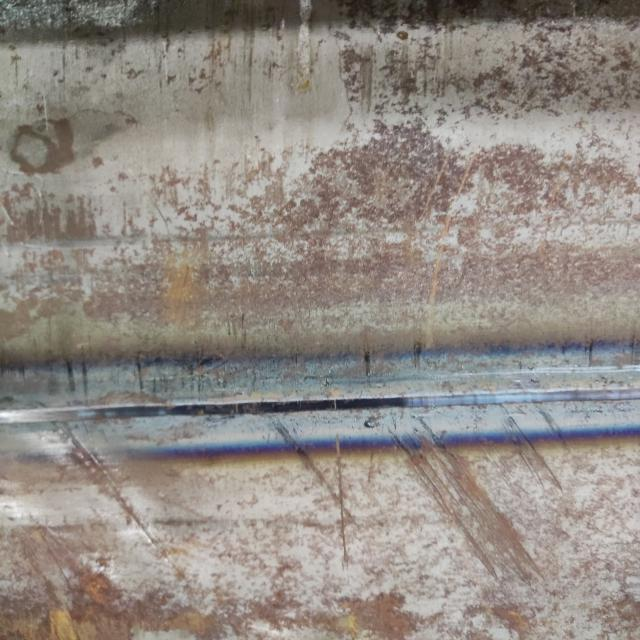seam: (0, 328, 640, 481)
